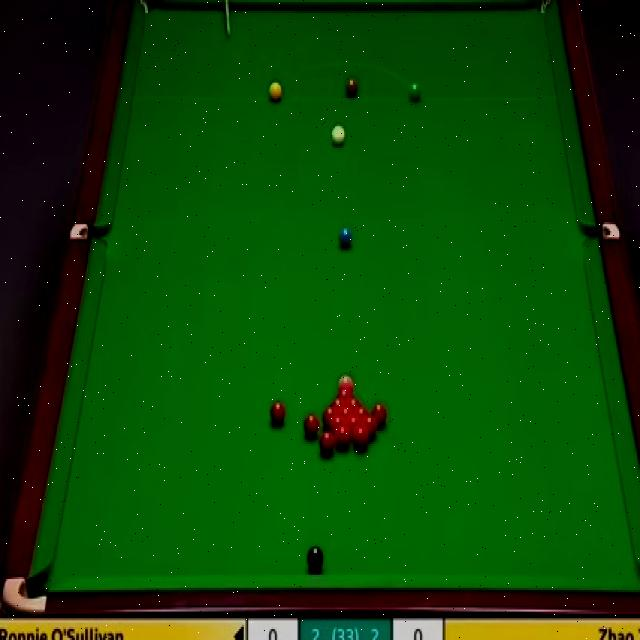black-ball: (307, 542, 324, 572)
blue-ball: (337, 225, 353, 251)
brown-ball: (344, 79, 358, 98)
green-ball: (409, 81, 421, 102)
pink-ball: (338, 375, 355, 389)
red-ball: (269, 402, 288, 429), (302, 412, 319, 442), (318, 431, 336, 459), (372, 402, 388, 429), (362, 415, 380, 439), (334, 425, 350, 451), (354, 424, 371, 448), (329, 414, 347, 436), (346, 414, 362, 436), (344, 398, 364, 412), (337, 387, 355, 398), (322, 406, 337, 419), (336, 406, 352, 417), (329, 398, 346, 408), (354, 407, 369, 417)
white-ball: (329, 123, 347, 147)
yellow-ball: (268, 80, 283, 102)
